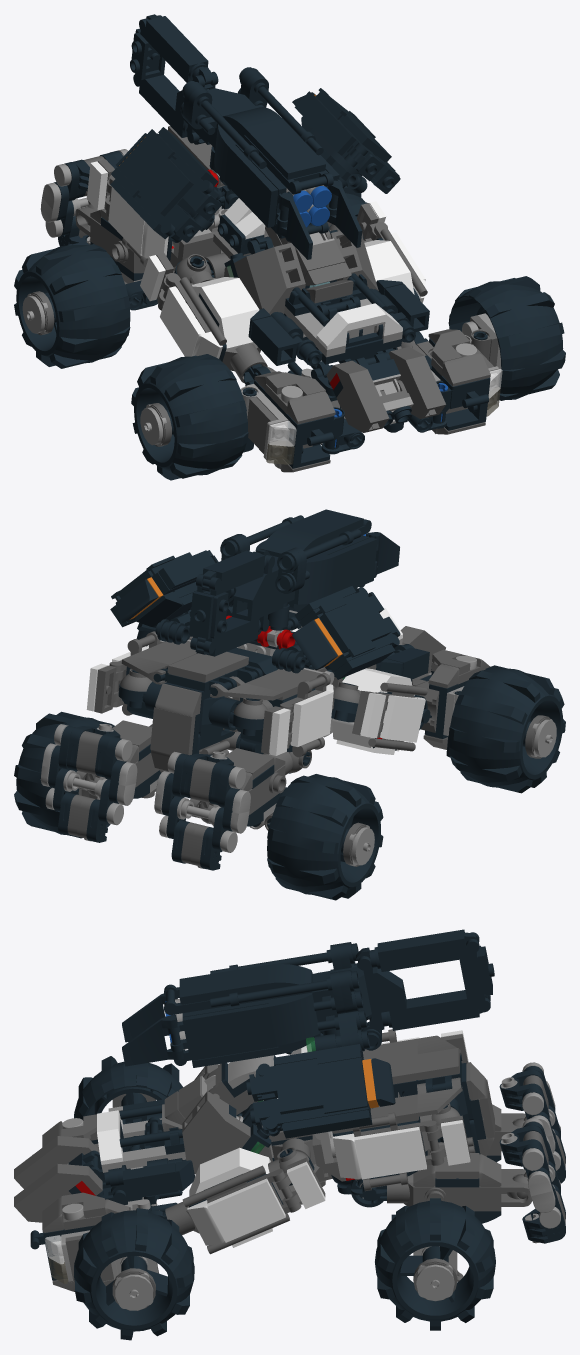
The model's file is kx-7259-lancer-rover.dae.
3 views of the same model, one above another, from view 1: azimuth 30°, elevation 25°; view 2: azimuth 150°, elevation 25°; view 3: azimuth 270°, elevation 25° (orthographic).
Size of the model in its own units: 428 by 503 by 310.
